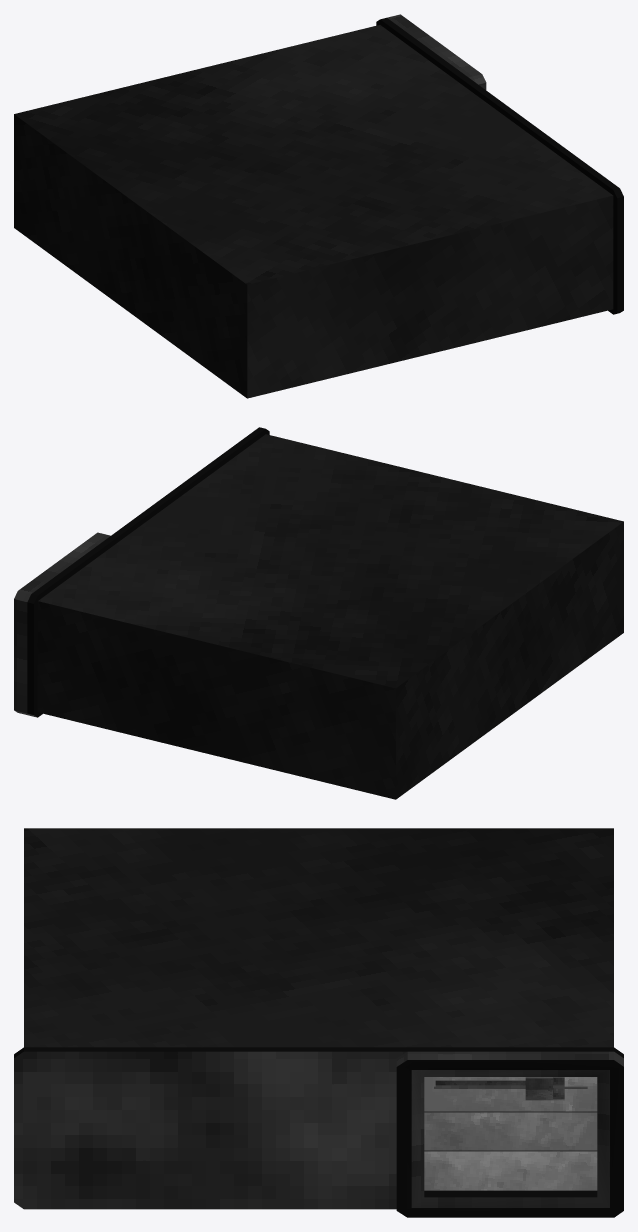
The model's file is CPU (1).glb.
3 renders of one model, top to bottom at view 1: azimuth 30°, elevation 25°; view 2: azimuth 150°, elevation 25°; view 3: azimuth 270°, elevation 25°, orthographic. The views are drawn at different scales.
Visible parts, largest first — view 1: Dvr?; view 2: Dvr?; view 3: Dvr?.
Part boxes in pixels (bbox=[...]): Dvr?: bbox=[14, 14, 623, 398]; Dvr?: bbox=[14, 427, 623, 799]; Dvr?: bbox=[14, 828, 623, 1217].
Size of the model in its own units: 2.49 by 0.7668 by 2.69.
Materials: 1 (1 with a texture image).
